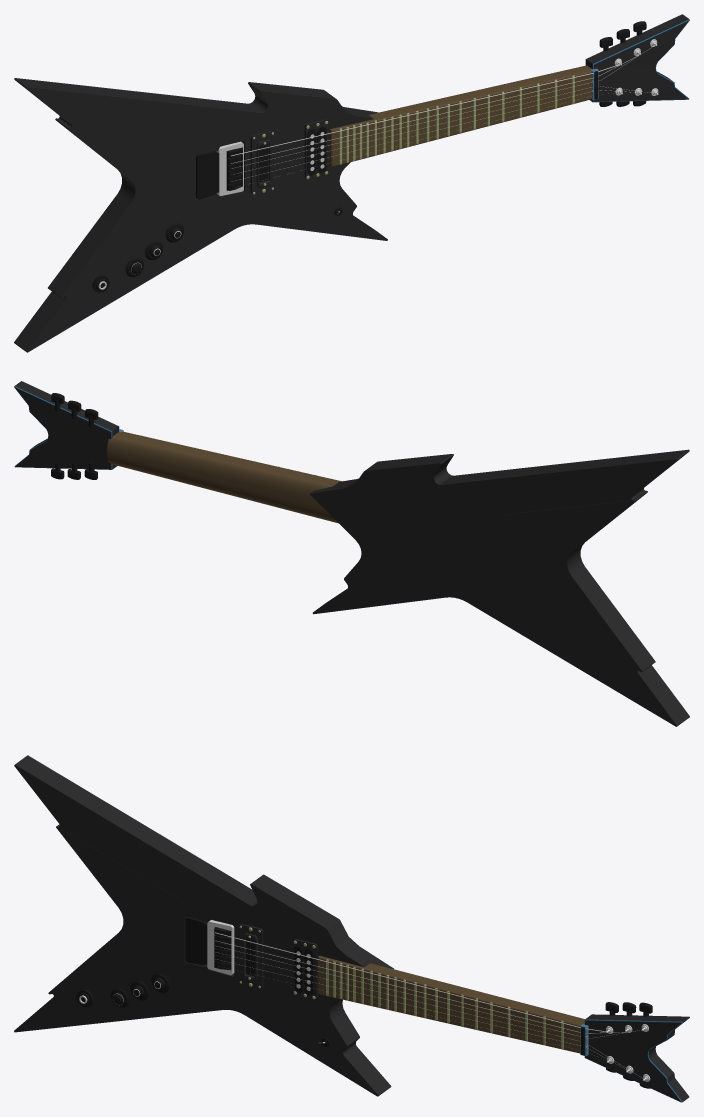
File: guitar1.glb
The picture shows the model from 3 angles, top to bottom: view 1: azimuth 30°, elevation 25°; view 2: azimuth 150°, elevation 25°; view 3: azimuth 330°, elevation 25°; orthographic projection.
Parts seen in each view (by area): view 1: Case, Neck, Pen, Frets, Strings, Pickups6, Pickups2, Volume_and_Tone_Knobs, Pickups, Tailpiece, Pickups1, Pegs (+1 smaller); view 2: Case, Neck, Pen, Pegs; view 3: Case, Neck, Pen, Frets, Strings, Pickups2, Pickups6, Volume_and_Tone_Knobs, Pickups, Pickups8, Tailpiece, Pickups1 (+1 smaller).
Boxes of the visible parts, left/top/right/bottom form: Case: left=14, top=78, right=387, bottom=352; Neck: left=329, top=65, right=593, bottom=167; Pen: left=585, top=14, right=689, bottom=102; Frets: left=339, top=75, right=574, bottom=164; Strings: left=231, top=45, right=655, bottom=181; Pickups6: left=196, top=151, right=219, bottom=199; Pickups2: left=250, top=130, right=275, bottom=195; Volume_and_Tone_Knobs: left=125, top=222, right=183, bottom=276; Pickups: left=307, top=126, right=326, bottom=175; Tailpiece: left=226, top=147, right=242, bottom=190; Pickups1: left=304, top=119, right=328, bottom=179; Pegs: left=599, top=21, right=646, bottom=106; Case: left=310, top=449, right=689, bottom=726; Neck: left=107, top=431, right=341, bottom=523; Pen: left=14, top=381, right=119, bottom=469; Pegs: left=51, top=393, right=98, bottom=479; Case: left=14, top=755, right=393, bottom=1096; Neck: left=318, top=955, right=584, bottom=1053; Pen: left=584, top=1014, right=689, bottom=1102; Frets: left=326, top=959, right=563, bottom=1049; Strings: left=215, top=932, right=642, bottom=1078; Pickups2: left=238, top=923, right=263, bottom=989; Pickups6: left=185, top=917, right=207, bottom=965; Volume_and_Tone_Knobs: left=110, top=973, right=169, bottom=1007; Pickups: left=294, top=946, right=313, bottom=995; Pickups8: left=207, top=920, right=234, bottom=975; Tailpiece: left=214, top=927, right=231, bottom=970; Pickups1: left=293, top=939, right=317, bottom=999.
Bounding box in the file's own units: 16.85 × 6.44 × 0.796.
